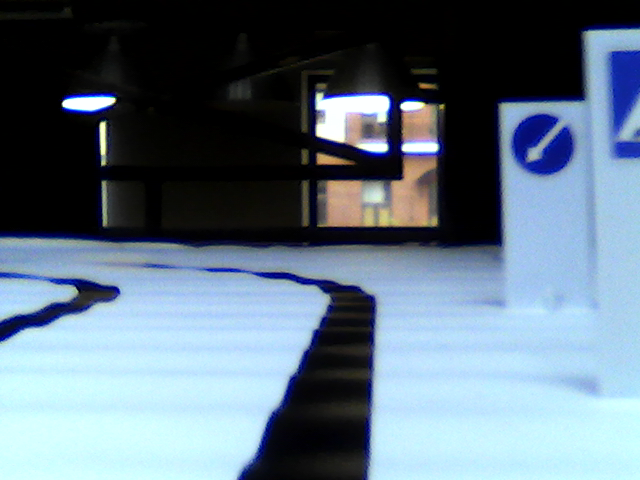prep: (507, 111, 575, 173)
